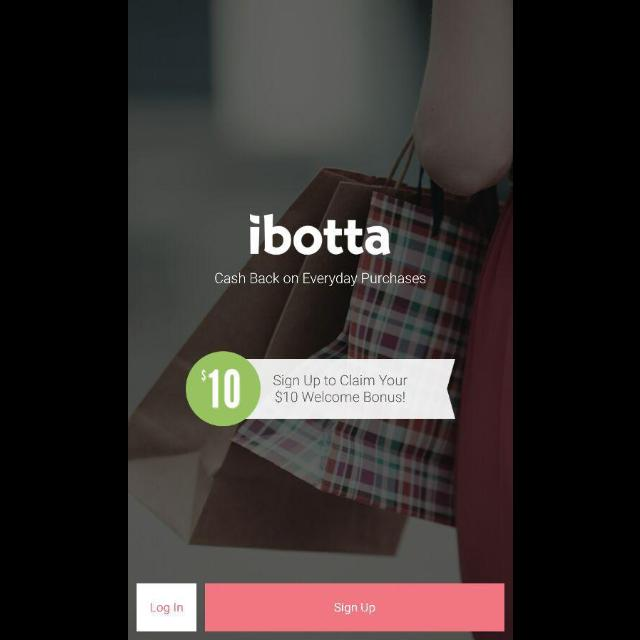backgroundimage: (128, 1, 512, 640)
image: (186, 352, 260, 426)
text: (248, 214, 389, 256), (273, 373, 407, 403), (214, 272, 426, 288)
textbutton: (204, 584, 504, 632), (136, 582, 196, 632)
